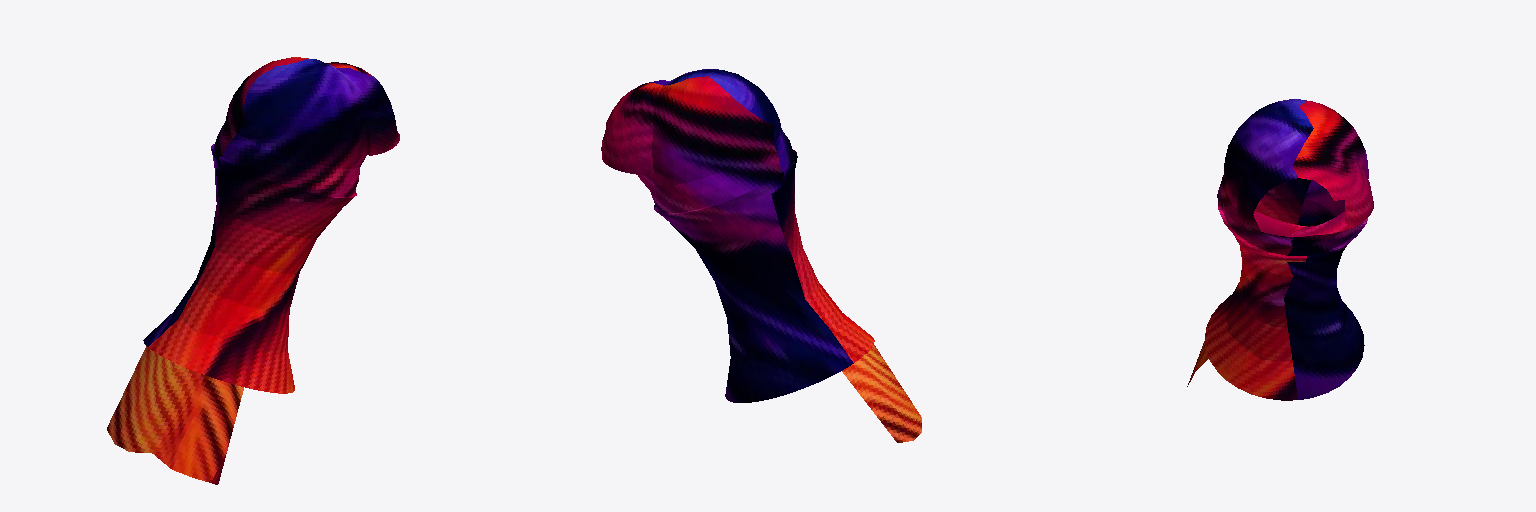
3 renders of one model, left to right at view 1: azimuth 30°, elevation 25°; view 2: azimuth 150°, elevation 25°; view 3: azimuth 270°, elevation 25°, orthographic.
Visible parts, largest first — view 1: cabezaGua; view 2: cabezaGua; view 3: cabezaGua.
Part boxes in pixels (x1,y1,x2,y2): cabezaGua: (107, 57, 399, 484); cabezaGua: (601, 69, 921, 442); cabezaGua: (1187, 99, 1373, 400).
Bounding box in the file's own units: 0.1246 × 0.1443 × 0.0702.
Materials: 1 (1 with a texture image).